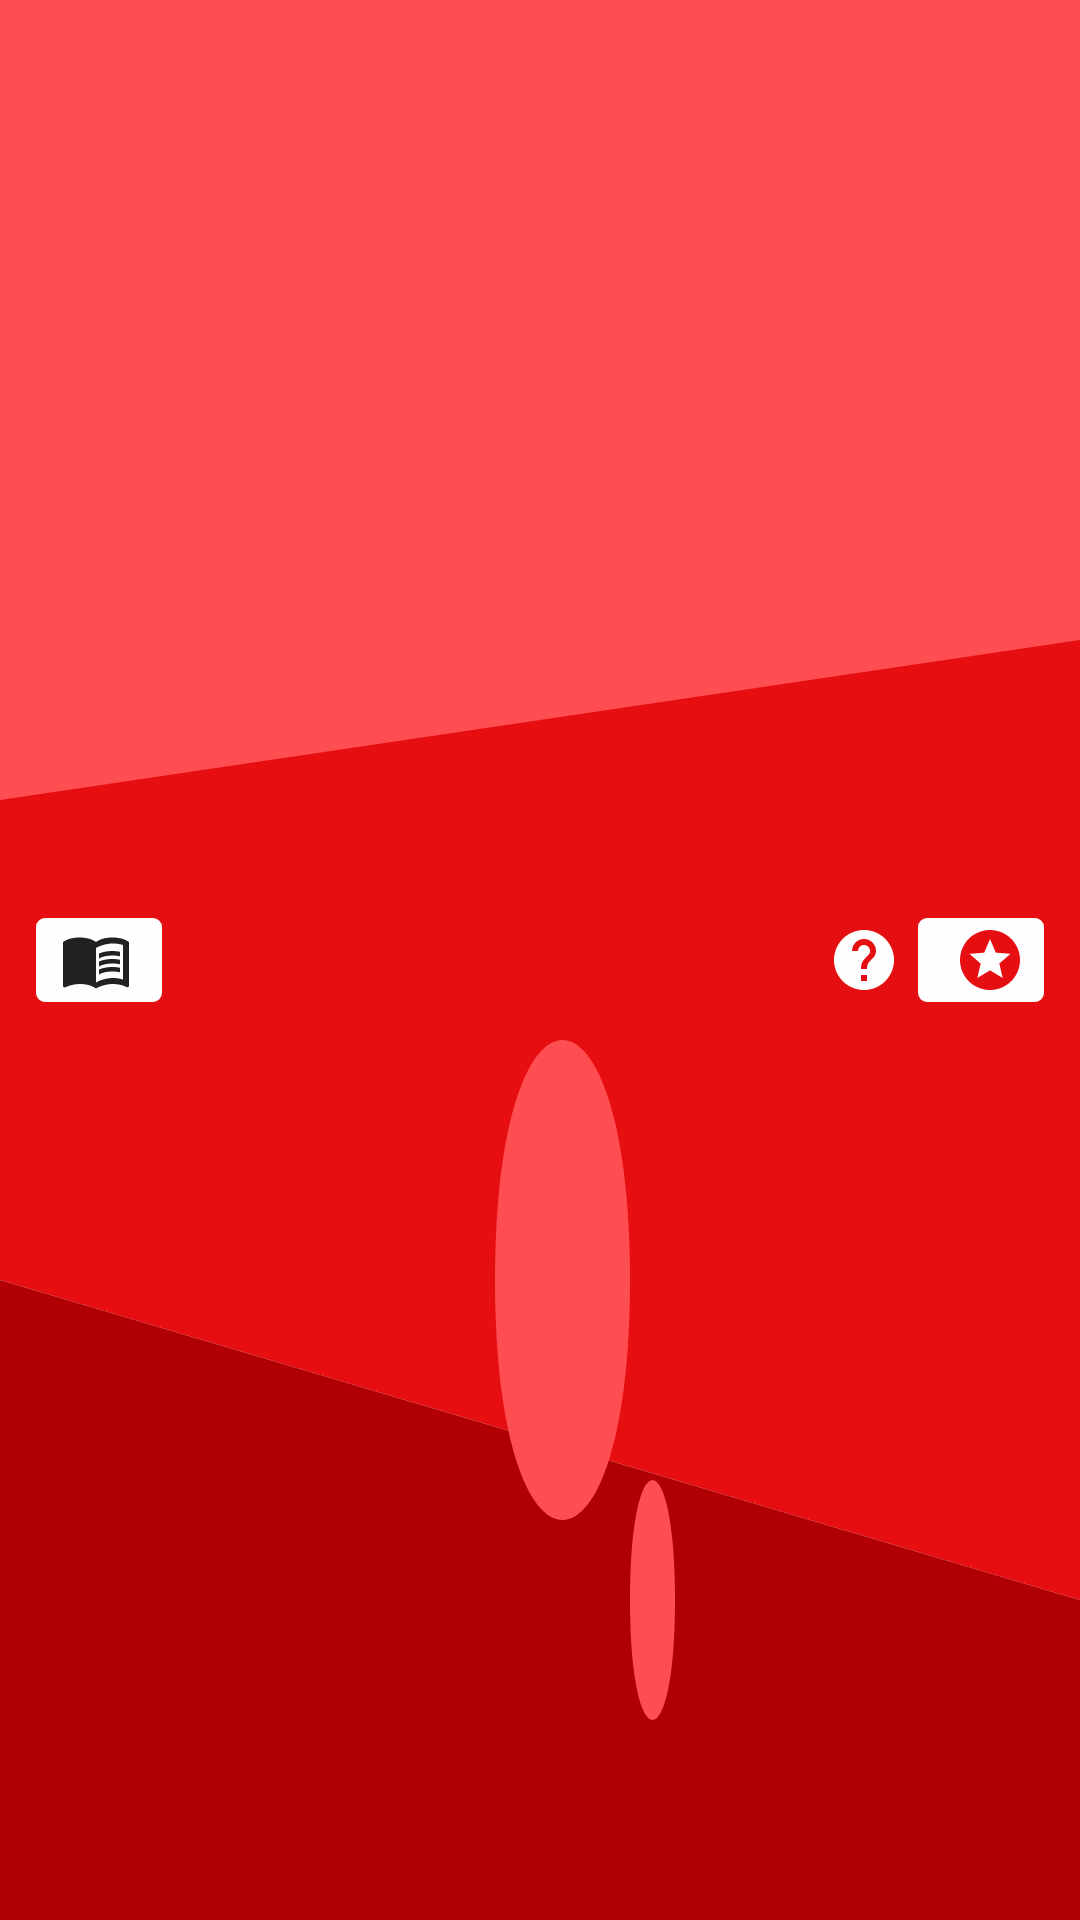

Icon click points for this 1080*1920 phone screenshot, format point (x, y):
Fanazavana: point (864, 960)
